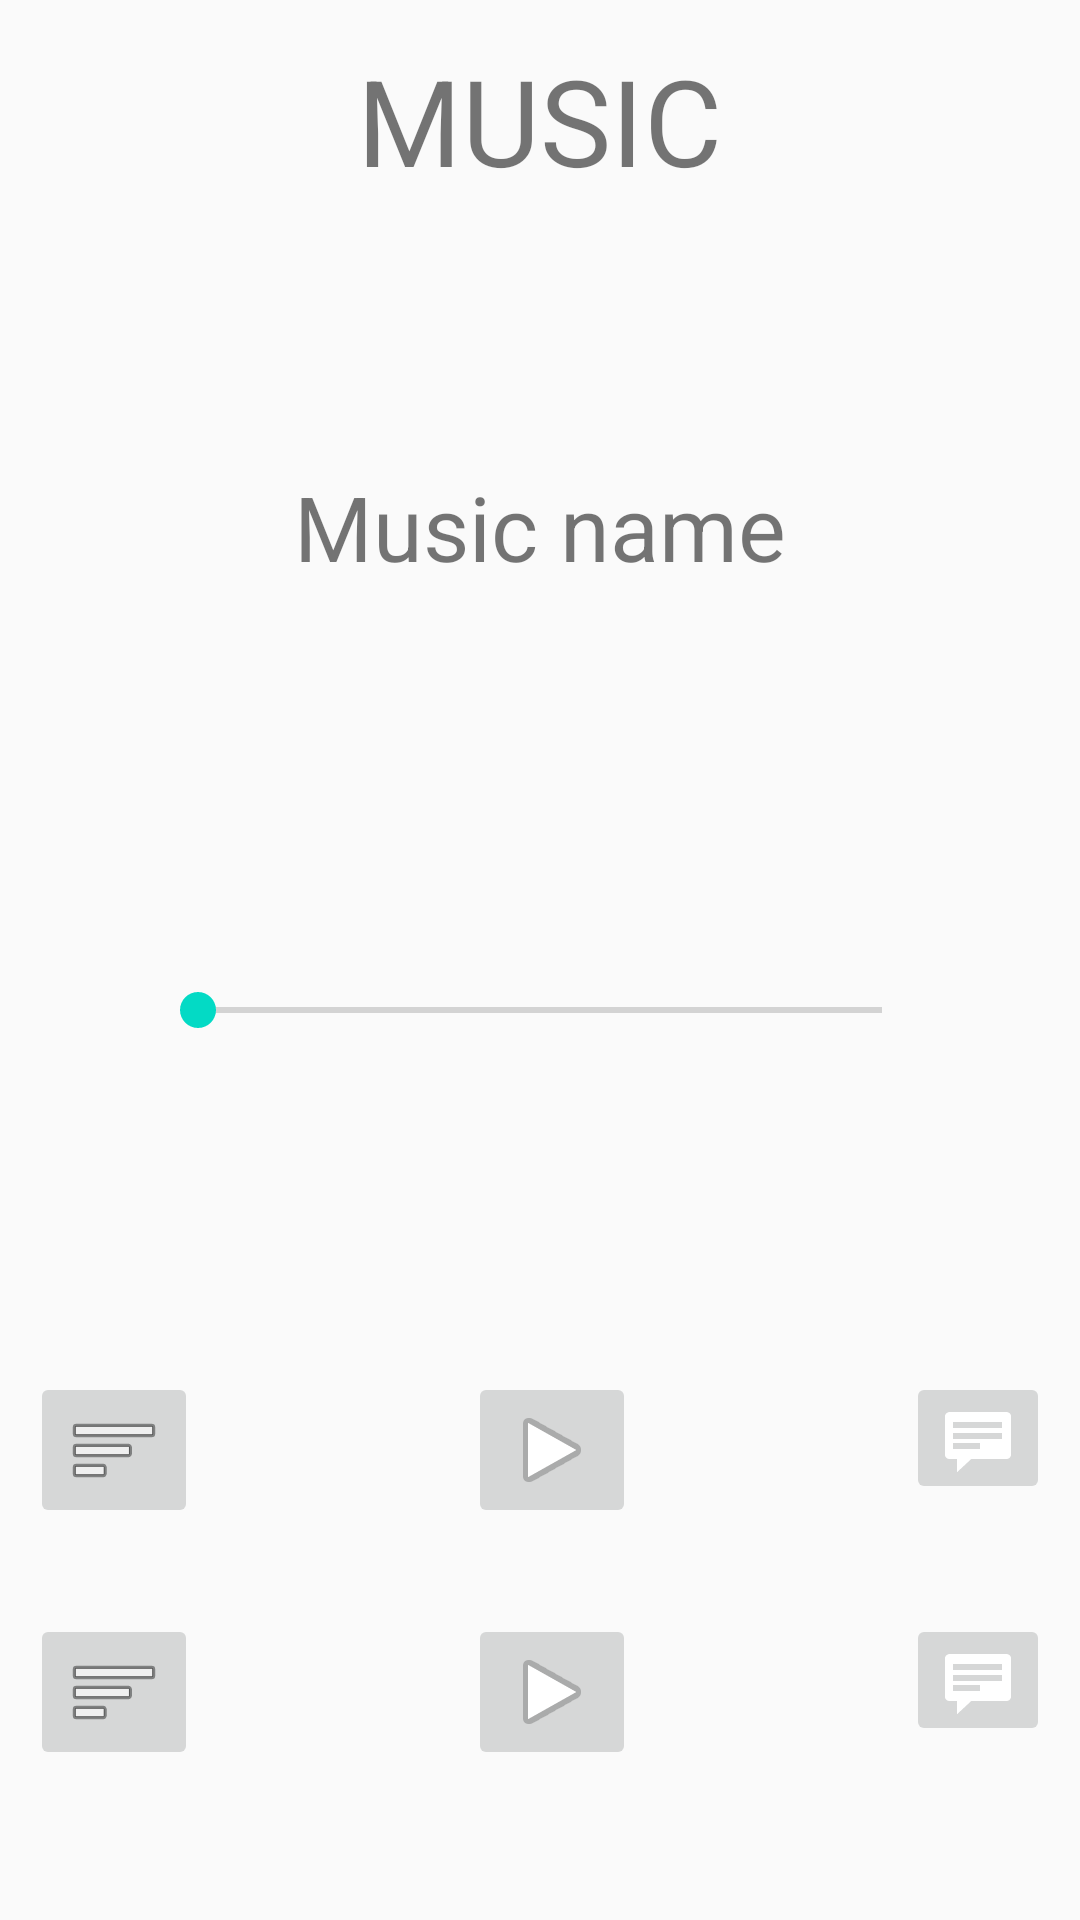

Icon click points for this 1080px×1920px phone screenshot, format (x=x, y=y):
chat: (x=978, y=1438), (x=978, y=1680)
play: (x=552, y=1450), (x=552, y=1692)
sort by size: (x=114, y=1450), (x=114, y=1692)
